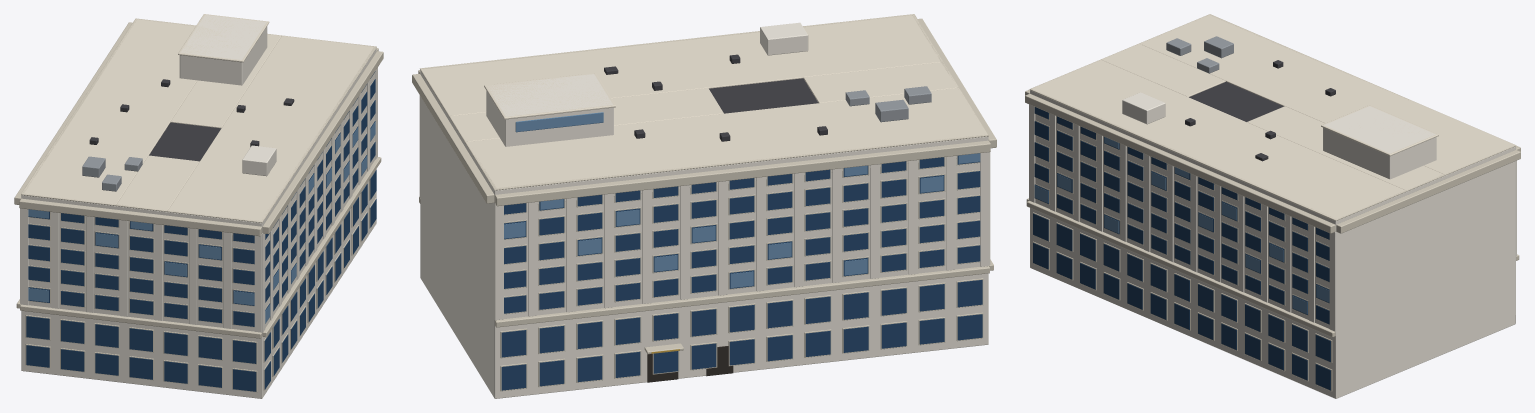
Rendered from 501-second.glb.
3 views of the same model, side by side, from view 1: azimuth 30°, elevation 25°; view 2: azimuth 150°, elevation 25°; view 3: azimuth 270°, elevation 25° (orthographic). The views are drawn at different scales.
Visible parts, largest first — view 1: grp_Toy_sand, grp_Toy_glass, body, grp_Toy_stone, grp_Toy_cream, grp_Toy_glass_Glow, grp_Toy_roofd, grp_Toy_steel; view 2: grp_Toy_sand, body, grp_Toy_glass, grp_Toy_stone, grp_Toy_cream, grp_Toy_glass_Glow, grp_Toy_roofd, grp_Toy_steel, penthouse_glaze, grp_Toy_ink; view 3: body, grp_Toy_sand, grp_Toy_glass, grp_Toy_stone, grp_Toy_cream, grp_Toy_roofd, grp_Toy_glass_Glow, grp_Toy_steel.
Part boxes in pixels (bbox=[...]): grp_Toy_sand: bbox=[21, 14, 374, 222]; grp_Toy_glass: bbox=[26, 71, 376, 391]; body: bbox=[21, 49, 376, 398]; grp_Toy_stone: bbox=[14, 18, 383, 392]; grp_Toy_cream: bbox=[20, 15, 377, 332]; grp_Toy_glass_Glow: bbox=[28, 122, 375, 323]; grp_Toy_roofd: bbox=[89, 79, 294, 161]; grp_Toy_steel: bbox=[82, 156, 142, 191]; grp_Toy_sand: bbox=[421, 14, 988, 190]; body: bbox=[420, 71, 988, 398]; grp_Toy_glass: bbox=[501, 155, 982, 390]; grp_Toy_stone: bbox=[412, 14, 996, 391]; grp_Toy_cream: bbox=[419, 22, 990, 320]; grp_Toy_glass_Glow: bbox=[504, 153, 980, 287]; grp_Toy_roofd: bbox=[604, 54, 827, 141]; grp_Toy_steel: bbox=[845, 86, 931, 122]; penthouse_glaze: bbox=[515, 112, 603, 132]; grp_Toy_ink: bbox=[647, 346, 733, 382]; body: bbox=[1030, 93, 1515, 398]; grp_Toy_sand: bbox=[1030, 14, 1515, 221]; grp_Toy_glass: bbox=[1033, 107, 1330, 390]; grp_Toy_stone: bbox=[1025, 14, 1520, 391]; grp_Toy_cream: bbox=[1029, 90, 1516, 331]; grp_Toy_roofd: bbox=[1185, 60, 1335, 161]; grp_Toy_glass_Glow: bbox=[1034, 137, 1329, 314]; grp_Toy_steel: bbox=[1166, 36, 1233, 73].
Bounding box in the file's own units: 83.11 × 37.7 × 82.81.
